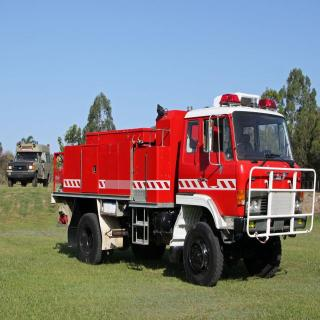Fire_truck: (51, 92, 316, 287)
